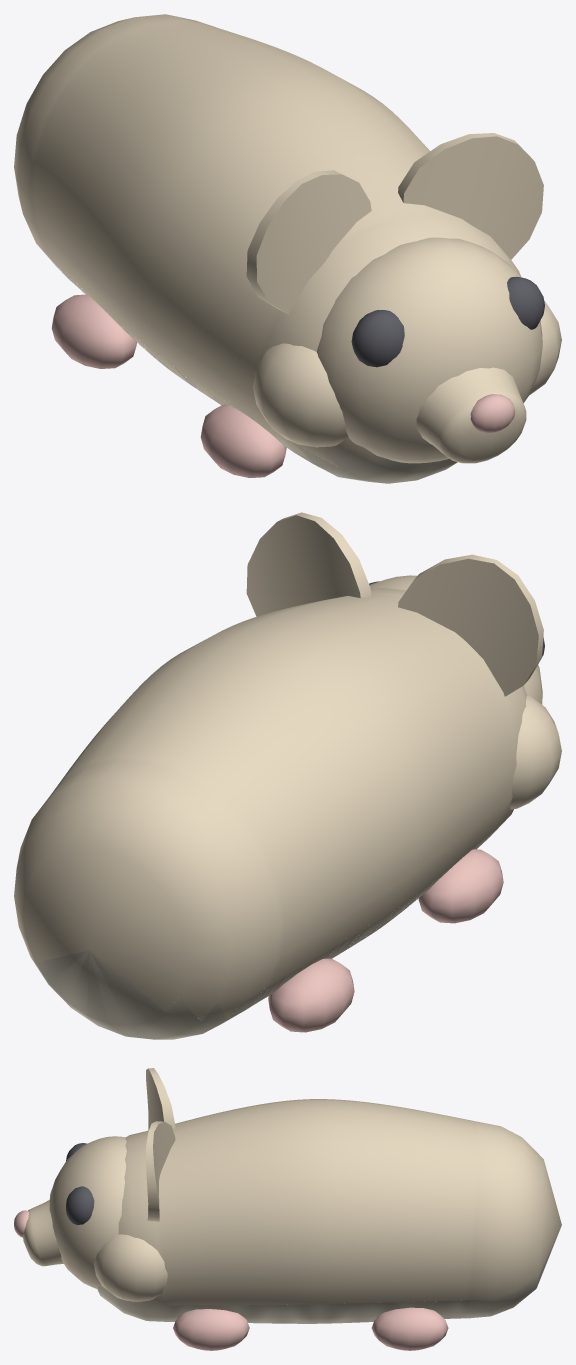
The model's file is pets-and-companions-hd-hamster-52497f96__28158.glb.
3 renders of one model, top to bottom at view 1: azimuth 30°, elevation 25°; view 2: azimuth 150°, elevation 25°; view 3: azimuth 270°, elevation 25°, orthographic. The views are drawn at different scales.
Visible parts, largest first — view 1: hamster; view 2: hamster; view 3: hamster.
Boxes of the visible parts, left/top/right/bottom form: hamster: left=14, top=14, right=561, bottom=483; hamster: left=14, top=512, right=561, bottom=1039; hamster: left=14, top=1068, right=561, bottom=1350.
Size of the model in its own units: 0.072 by 0.0737 by 0.171.
4 materials, 1 textured.
